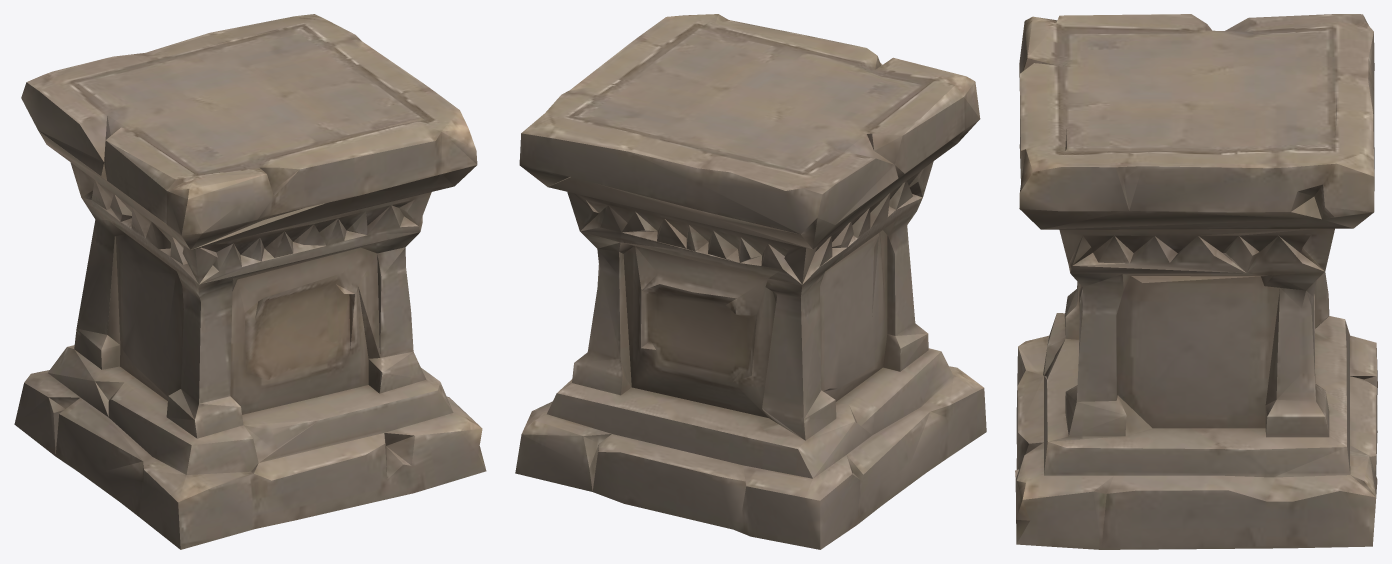
Rendered from hub_trophy_pedestal.glb.
3 views of the same model, side by side, from view 1: azimuth 30°, elevation 25°; view 2: azimuth 150°, elevation 25°; view 3: azimuth 270°, elevation 25° (orthographic). The views are drawn at different scales.
Visible parts, largest first — view 1: body; view 2: body; view 3: body.
Part boxes in pixels (x1,y1,x2,y2): body: (14,14,486,549); body: (515,14,986,549); body: (1015,14,1377,549).
Size of the model in its own units: 0.9892 by 1.1 by 0.9424.
1 material, 1 textured.
